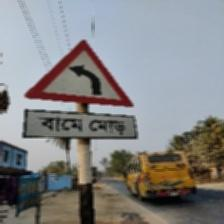Left-Turn: (22, 39, 136, 142)
